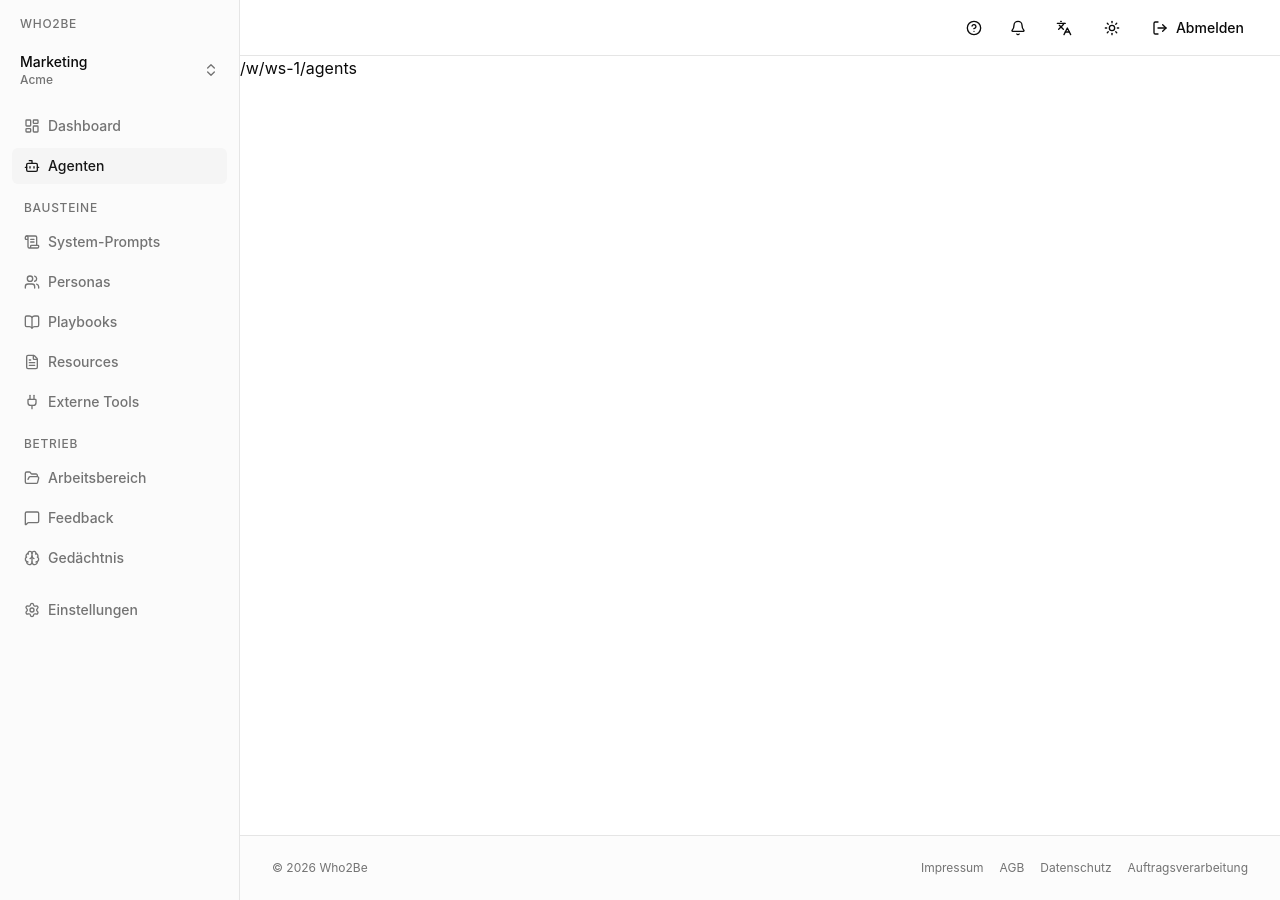
it: HelpMenu › fragt vor dem Neustart nach, wenn Fortschritt verloren geht
Press Enter in the button named "Hilfe und Neuigkeiten", box [956, 10, 992, 46]
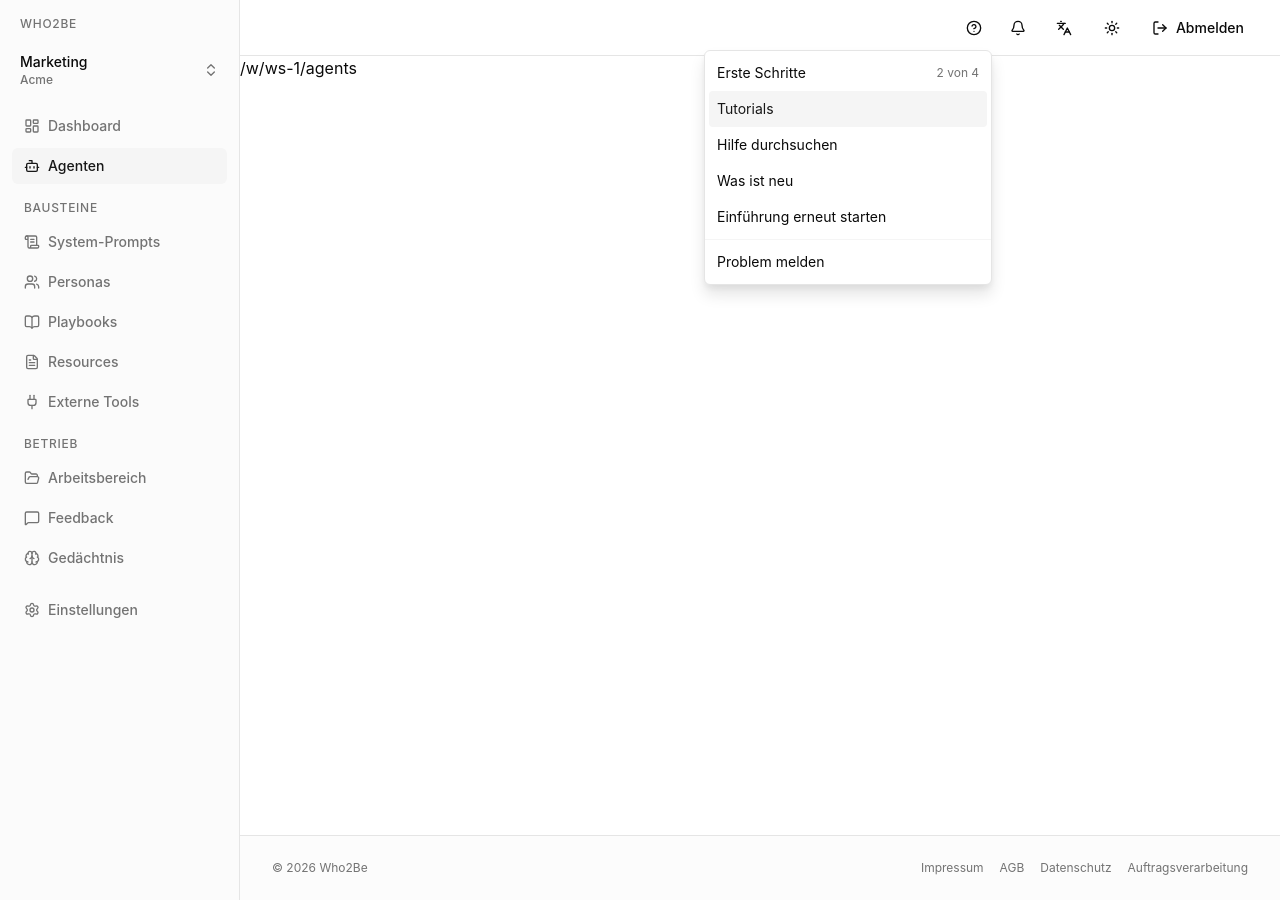
Click the menu item "Einführung erneut starten": point(802, 216) [717, 208, 886, 225]
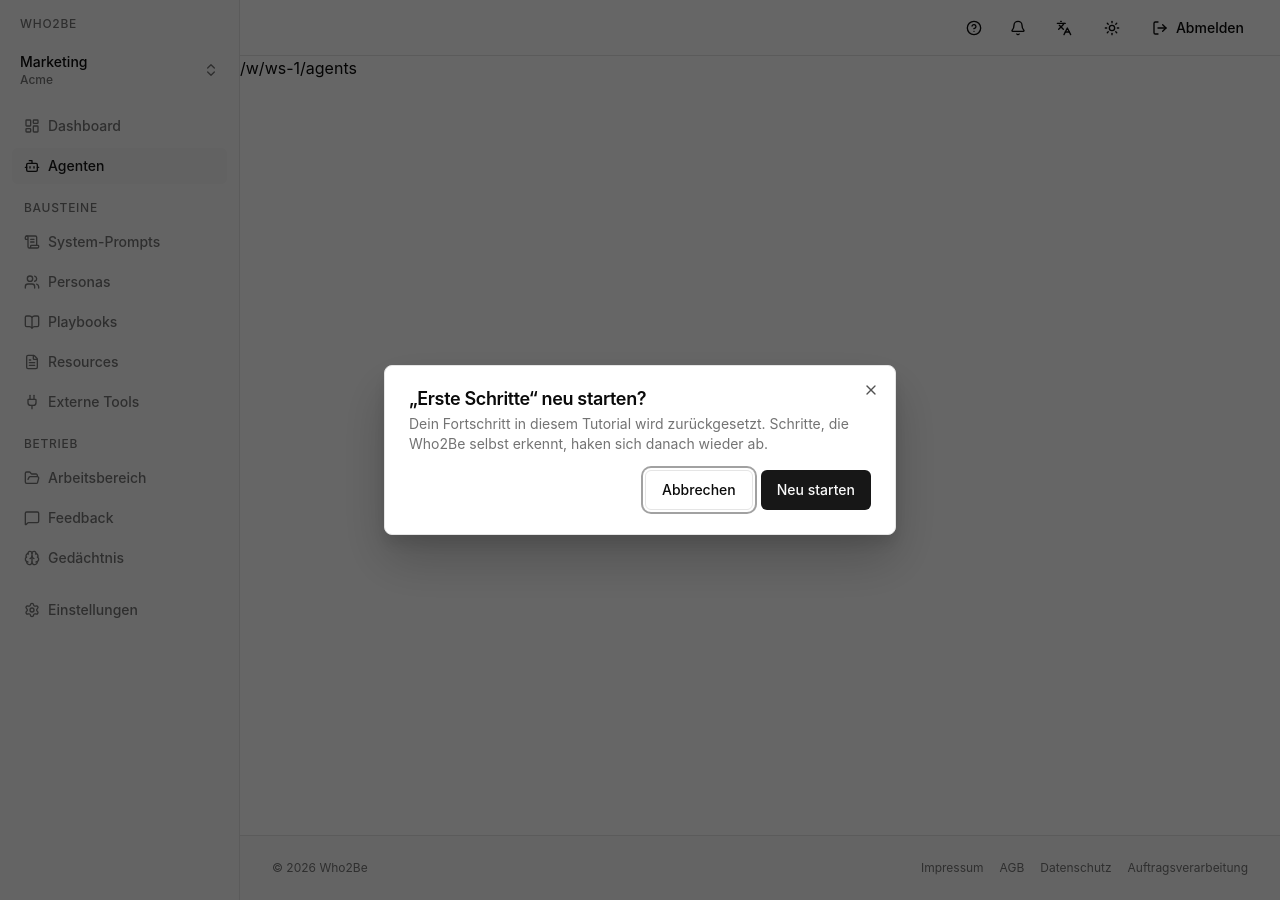
Click the button "Neu starten": point(816, 490) [761, 470, 871, 510]
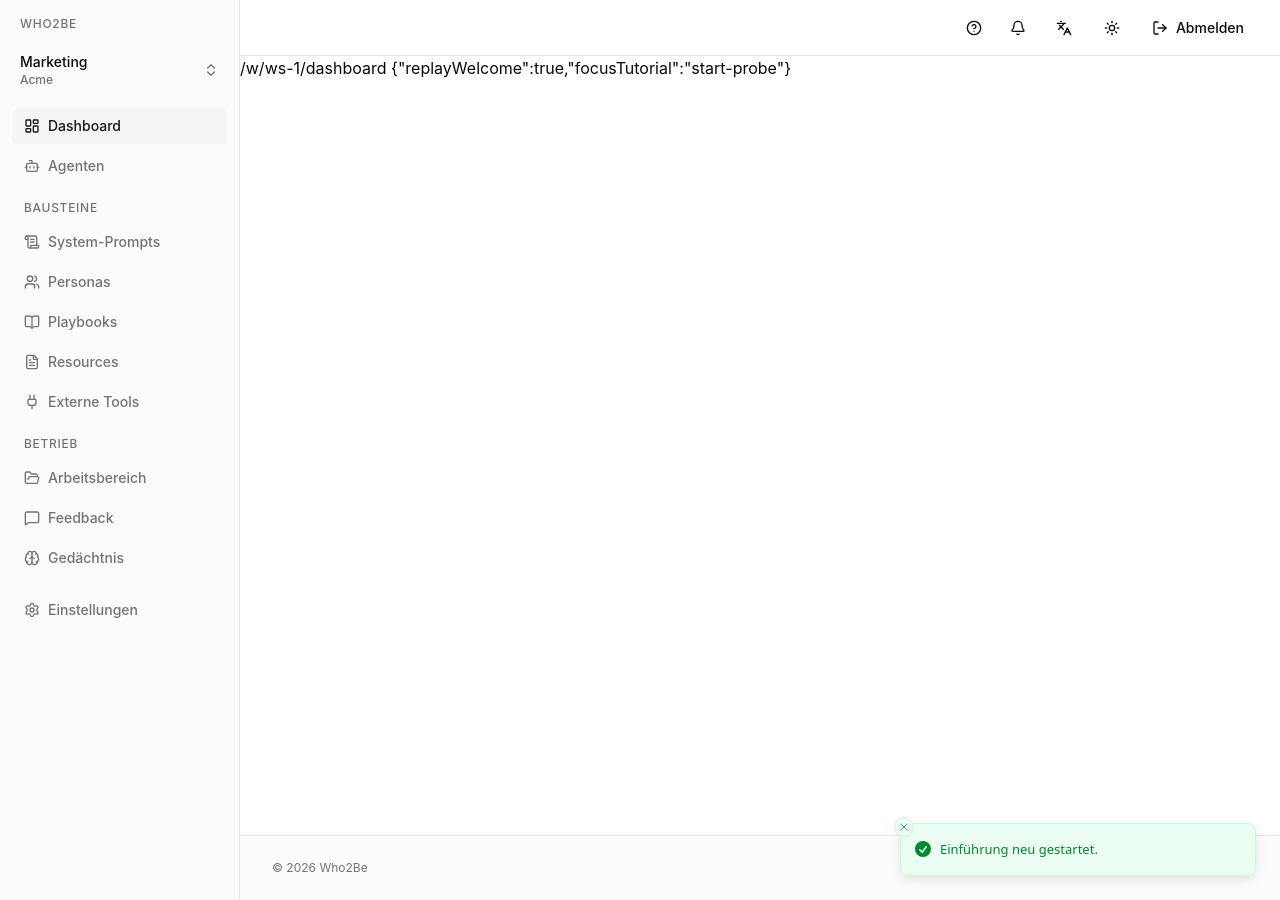
Result: the text with test id "location" shows "\"replayWelcome\":true" at [387, 58, 791, 78]
Result: the dialog is gone
